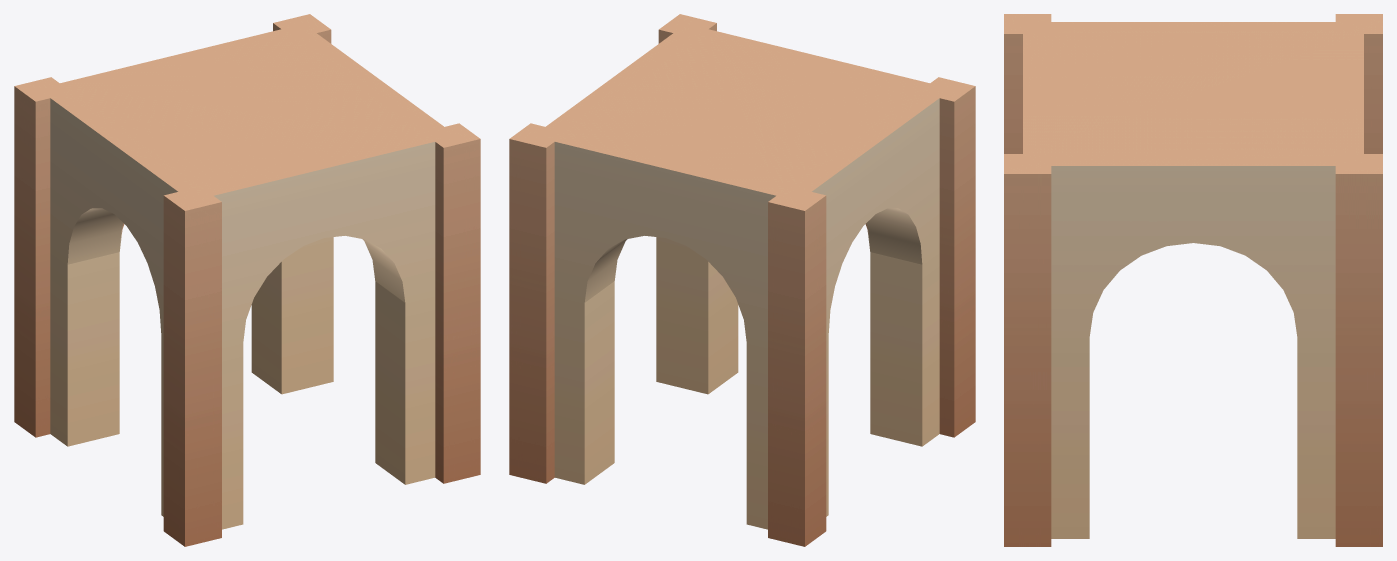
The model's file is tower-square-arch.glb.
3 views of the same model, side by side, from view 1: azimuth 30°, elevation 25°; view 2: azimuth 150°, elevation 25°; view 3: azimuth 270°, elevation 25° (orthographic). The views are drawn at different scales.
Visible parts, largest first — view 1: tower-square-arch; view 2: tower-square-arch; view 3: tower-square-arch.
Boxes of the visible parts, bbox=[...] form: tower-square-arch: bbox=[14, 14, 480, 546]; tower-square-arch: bbox=[509, 14, 975, 546]; tower-square-arch: bbox=[1004, 14, 1382, 546].
Bounding box in the file's own units: 0.93 × 1.01 × 0.93.
1 material, 1 textured.
